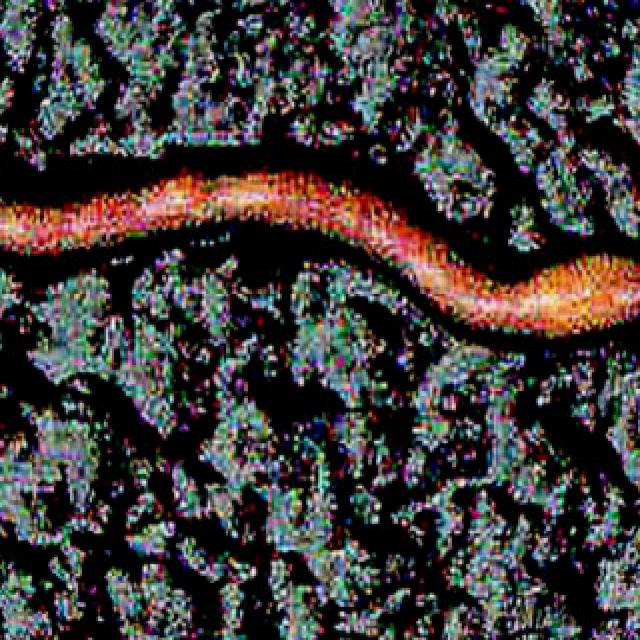Snake: (0, 118, 640, 420)
